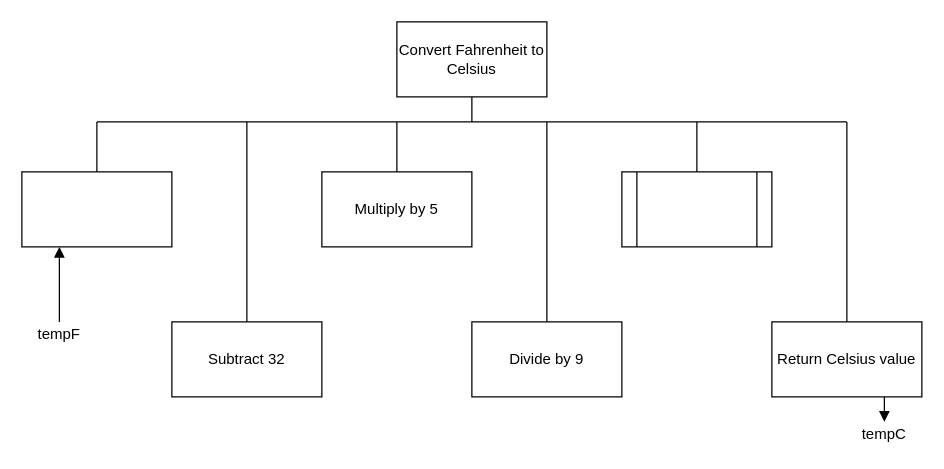
Image size: 944x469. Some labels were removed from this diagram. The centre of each missing label's shape, as x and y in pixels:
"Accept Fahrenheit value" goes at (96,209).
"Round to 1 decimal point" goes at (696,209).
